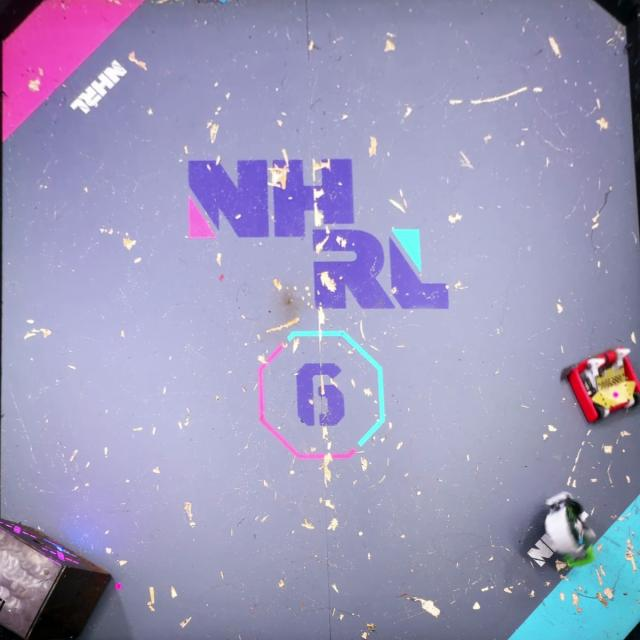housebot: (0, 516, 115, 640)
robot: (560, 346, 640, 426), (544, 491, 598, 572)
